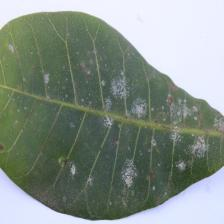red rust: (0, 10, 224, 220)
